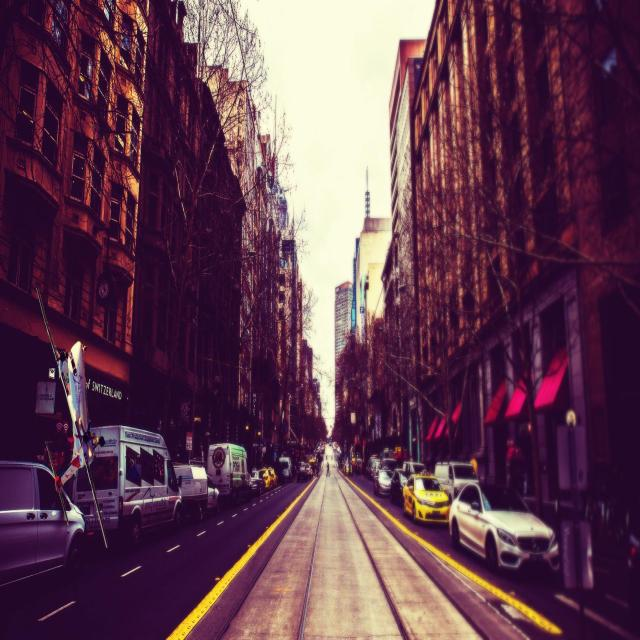airplane: (35, 287, 107, 550)
